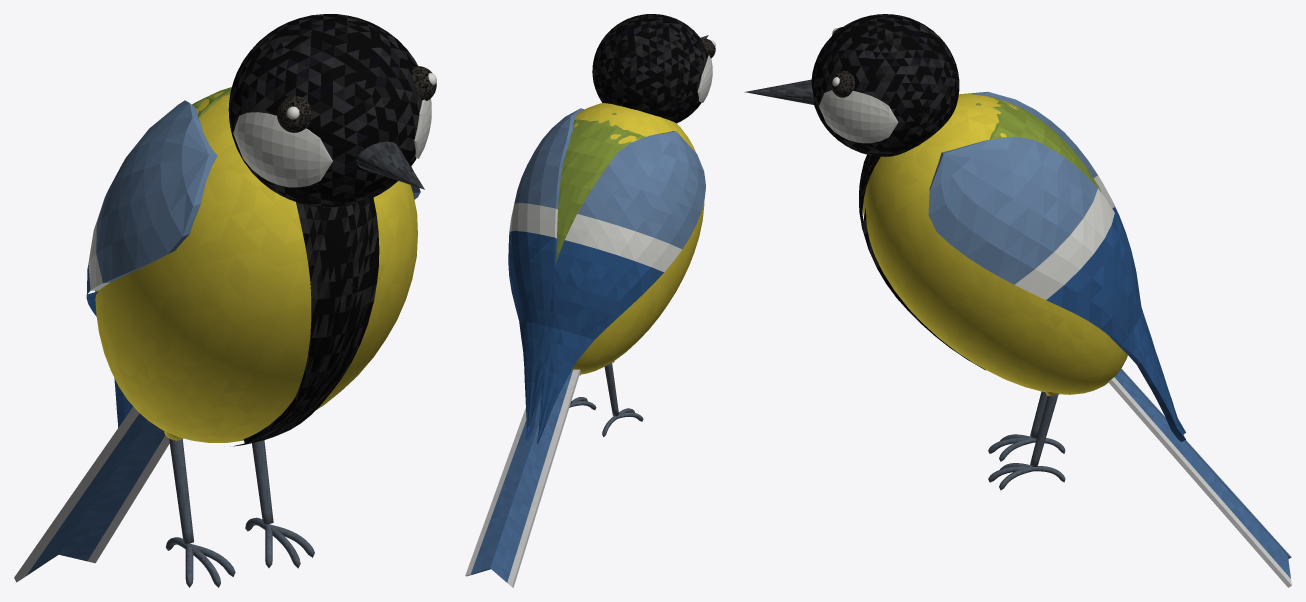
Rendered from mesange.glb.
3 views of the same model, side by side, from view 1: azimuth 30°, elevation 25°; view 2: azimuth 150°, elevation 25°; view 3: azimuth 270°, elevation 25° (orthographic). The views are drawn at different scales.
Visible parts, largest first — view 1: body, head, wingL, tail, shinR, footR, footL, shinL; view 2: wingL, body, wingR, head, tail, shinR; view 3: body, wingR, head, tail, wingL, footL, footR, shinL.
Boxes of the visible parts, x1=… form: body: x1=95, y1=87, x2=417, y2=446; head: x1=228, y1=14, x2=436, y2=207; wingL: x1=86, y1=100, x2=217, y2=427; tail: x1=14, y1=406, x2=169, y2=582; shinR: x1=169, y1=438, x2=193, y2=543; footR: x1=165, y1=537, x2=235, y2=587; footL: x1=245, y1=517, x2=314, y2=568; shinL: x1=252, y1=440, x2=273, y2=524; wingL: x1=537, y1=131, x2=705, y2=443; body: x1=556, y1=103, x2=704, y2=375; wingR: x1=508, y1=108, x2=584, y2=441; head: x1=592, y1=14, x2=715, y2=123; tail: x1=465, y1=369, x2=580, y2=587; shinR: x1=604, y1=362, x2=618, y2=416; body: x1=859, y1=93, x2=1127, y2=394; wingR: x1=928, y1=136, x2=1185, y2=441; head: x1=745, y1=14, x2=959, y2=156; tail: x1=1108, y1=368, x2=1291, y2=587; wingL: x1=964, y1=91, x2=1185, y2=434; footL: x1=988, y1=463, x2=1065, y2=490; footR: x1=988, y1=434, x2=1065, y2=461; shinL: x1=1030, y1=393, x2=1058, y2=466.
Bounding box in the file's own units: 0.4356 × 1.11 × 0.9974.
